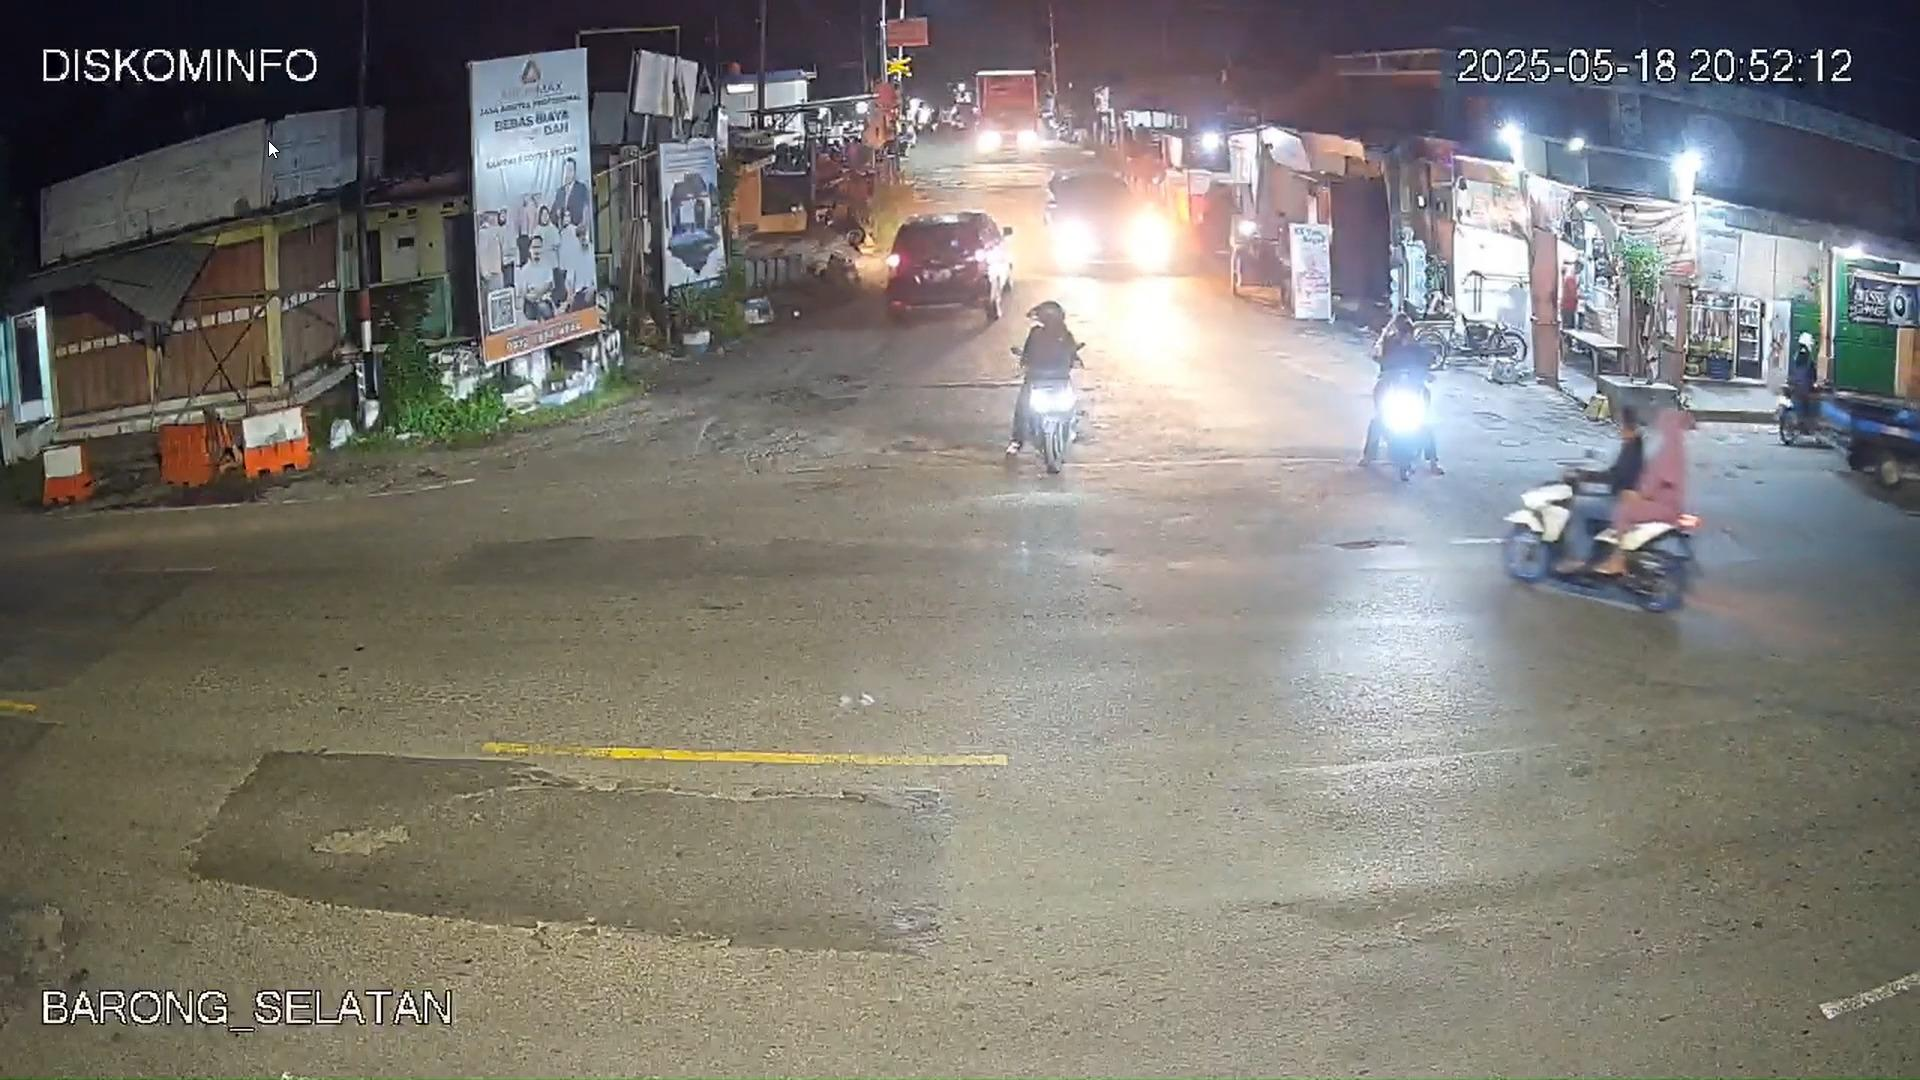Motor: (1498, 415, 1710, 618), (1357, 313, 1448, 491), (997, 295, 1077, 465)
Truck: (969, 69, 1044, 160)
mobil: (881, 208, 1021, 332), (1027, 173, 1170, 282)
